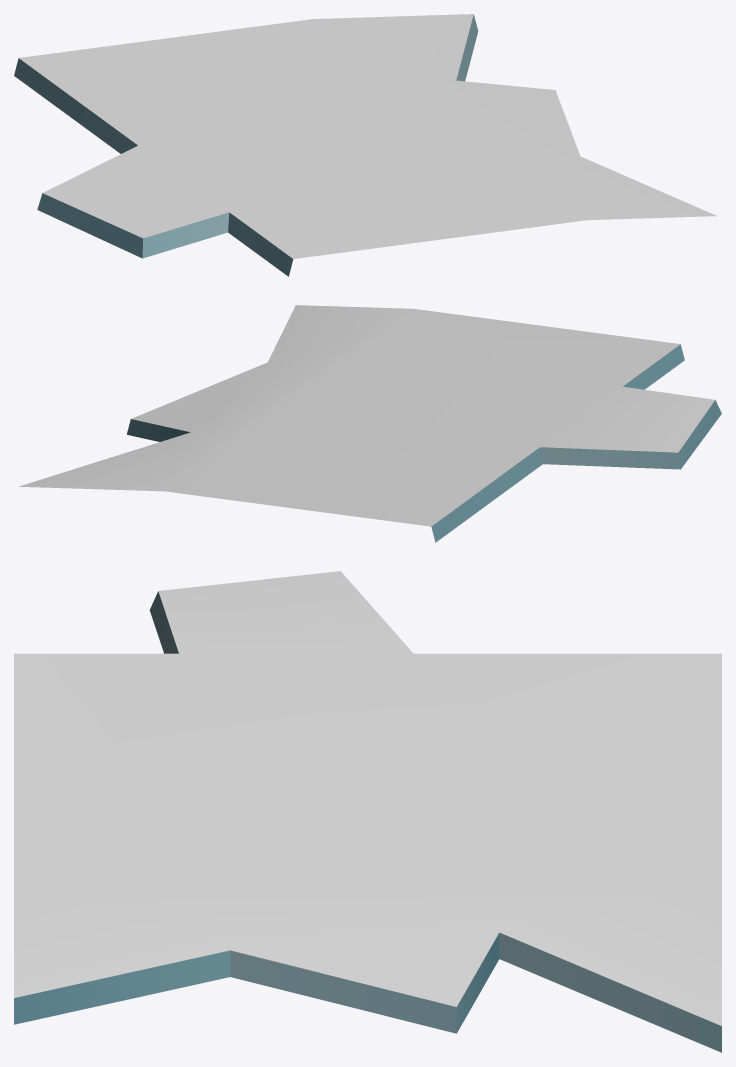
Rendered from icePiece_03.glb.
3 views of the same model, one above another, from view 1: azimuth 30°, elevation 25°; view 2: azimuth 150°, elevation 25°; view 3: azimuth 270°, elevation 25° (orthographic). The views are drawn at different scales.
Visible parts, largest first — view 1: icePiece_03; view 2: icePiece_03; view 3: icePiece_03.
Boxes of the visible parts, left/top/right/bottom form: icePiece_03: left=14, top=14, right=716, bottom=276; icePiece_03: left=19, top=305, right=721, bottom=542; icePiece_03: left=14, top=571, right=721, bottom=1052.
Size of the model in its own units: 3.35 by 0.4856 by 2.72.
